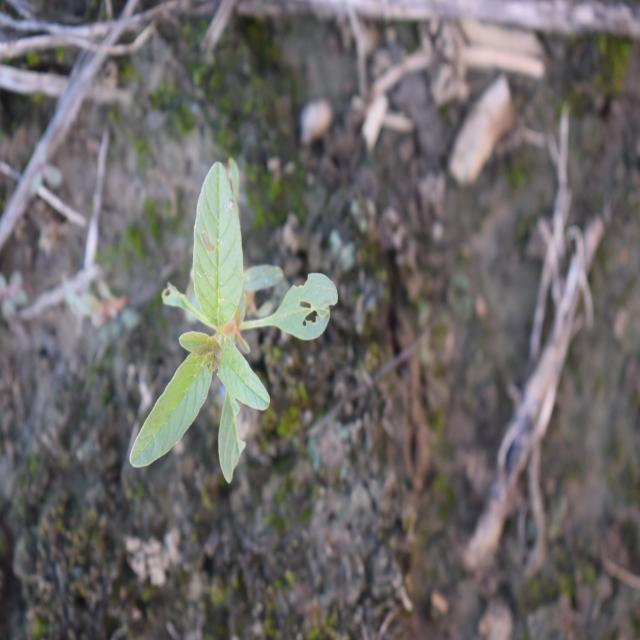Waterhemp: (128, 160, 340, 485)
